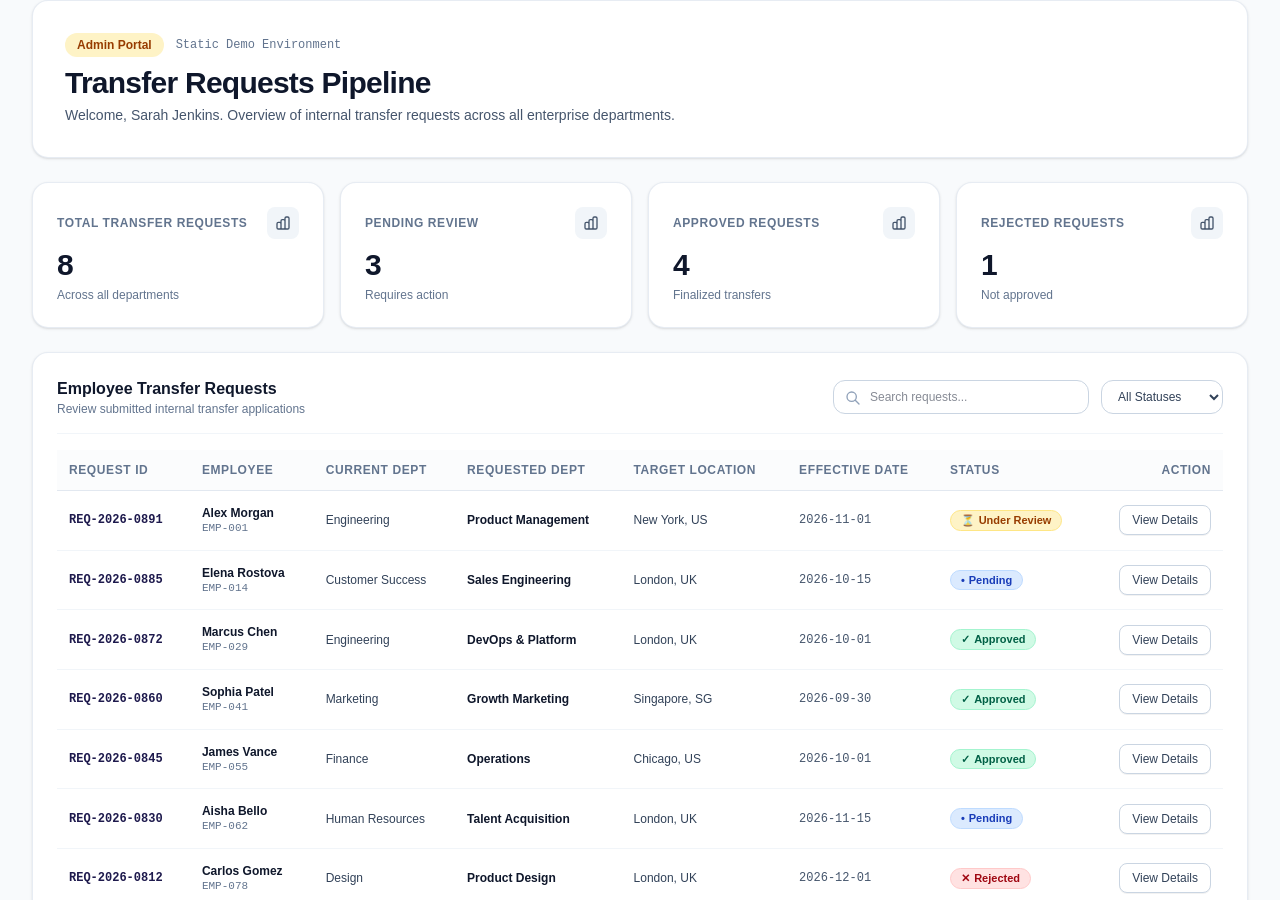
it: P2-T05: AdminDashboard component › opens request detail modal upon clicking View Details button
Step 1. Click the button "View Details" in the row of "REQ-2026-0891" → click(1165, 520), box [1119,505,1211,535]
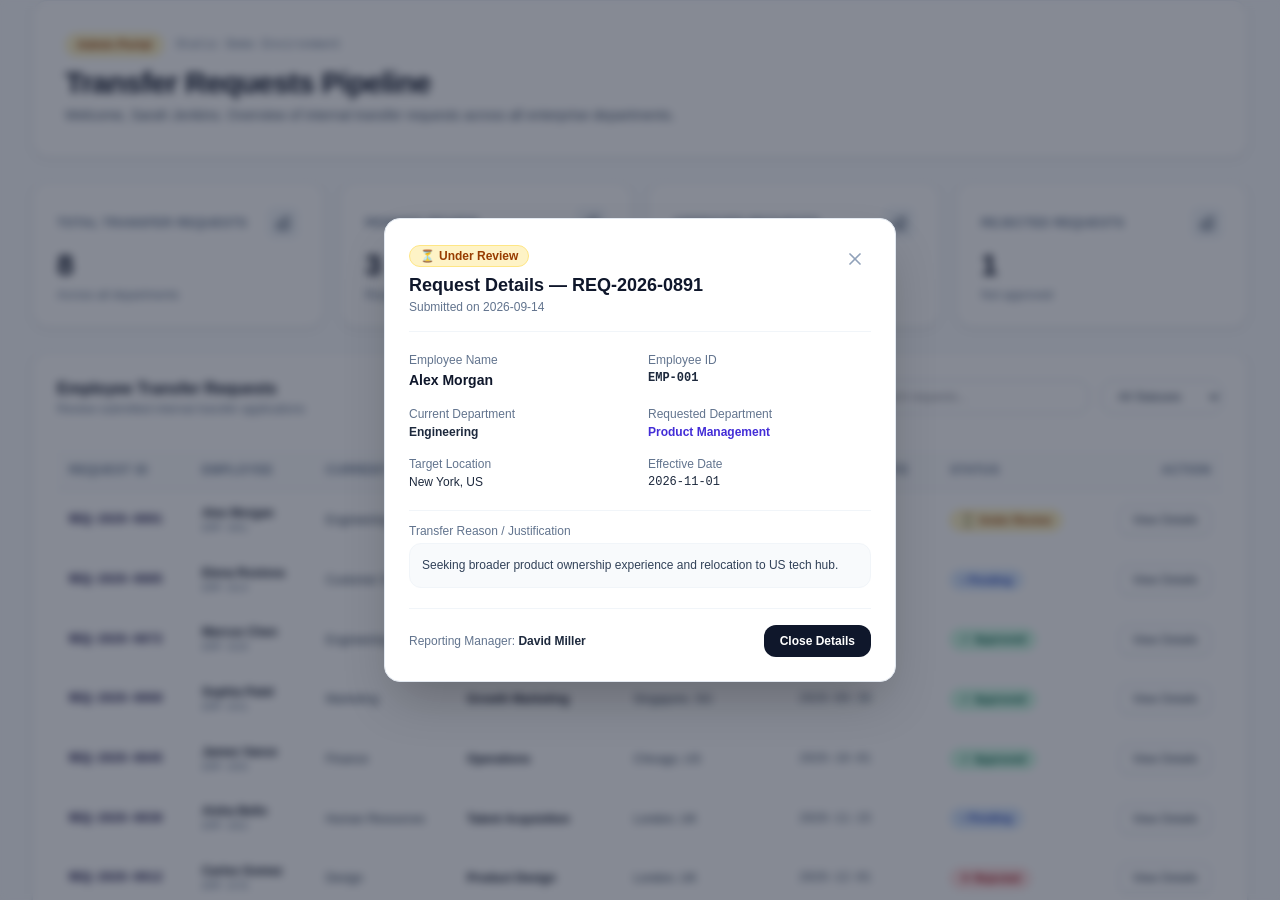
Now the dialog is shown
Now the heading "Request Details — REQ-2026-0891" is shown, box [409,271,703,299]
